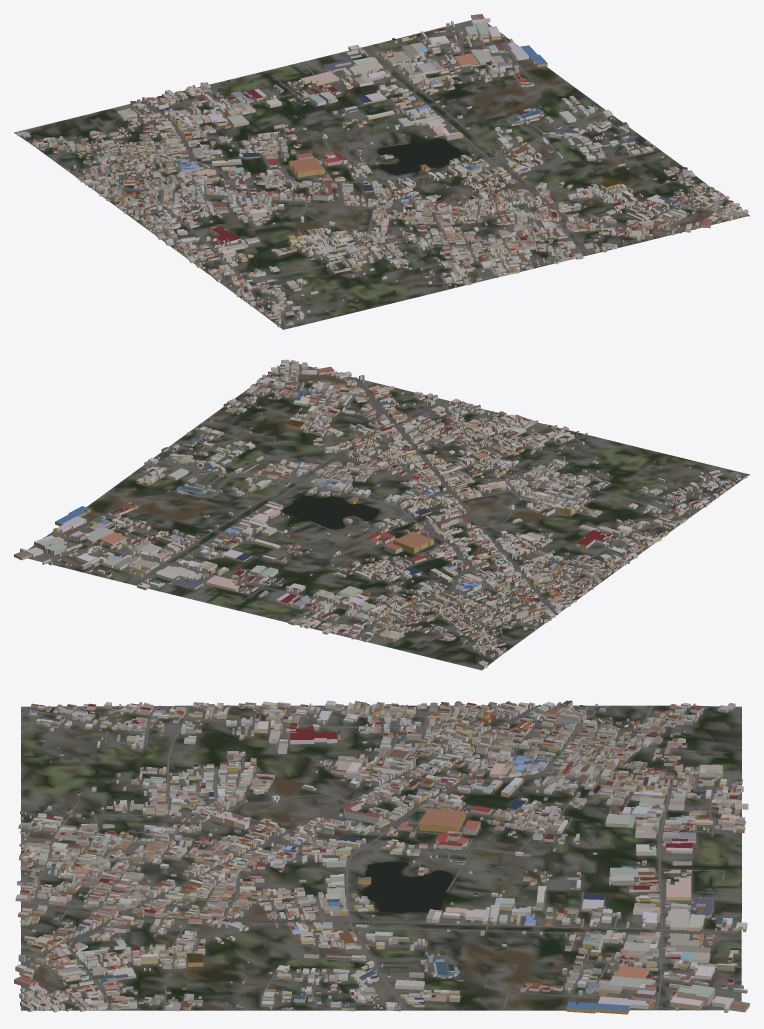
The picture shows the model from 3 angles, top to bottom: view 1: azimuth 30°, elevation 25°; view 2: azimuth 150°, elevation 25°; view 3: azimuth 270°, elevation 25°; orthographic projection. The views are drawn at different scales.
Visible parts, largest first — view 1: ground, buildings, roads, water; view 2: ground, buildings, roads, water; view 3: ground, buildings, roads, water.
Part boxes in pixels (x1,y1,x2,y2): ground: (14,20,749,329); buildings: (16,14,748,327); roads: (36,25,746,329); water: (377,139,462,175); ground: (27,362,749,670); buildings: (14,359,747,668); roads: (47,361,747,652); water: (282,495,379,528); ground: (21,705,741,1010); buildings: (14,700,749,1014); roads: (20,704,741,1010); water: (363,862,452,912).
Size of the model in its own units: 1424 by 23.79 by 1430.
